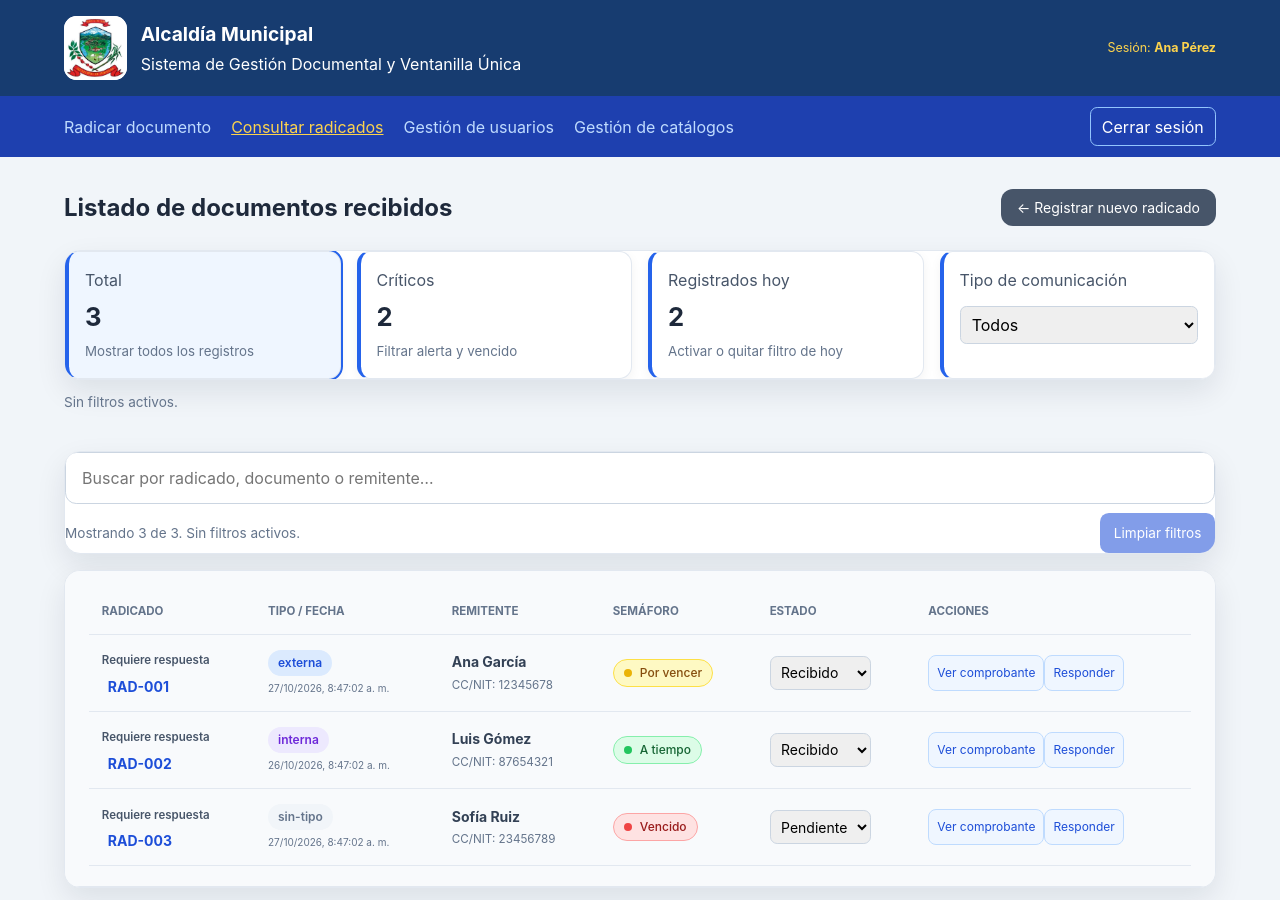
consulta de radicados React › presenta clasificación jurídica y contacto de una externa
expect the button "RAD-002" is shown: met, box [102,752,178,775]
expect the button "RAD-003" is shown: met, box [102,830,178,852]
Click the button "RAD-001": click(138, 686) [102,675,175,698]
(page scrolled)
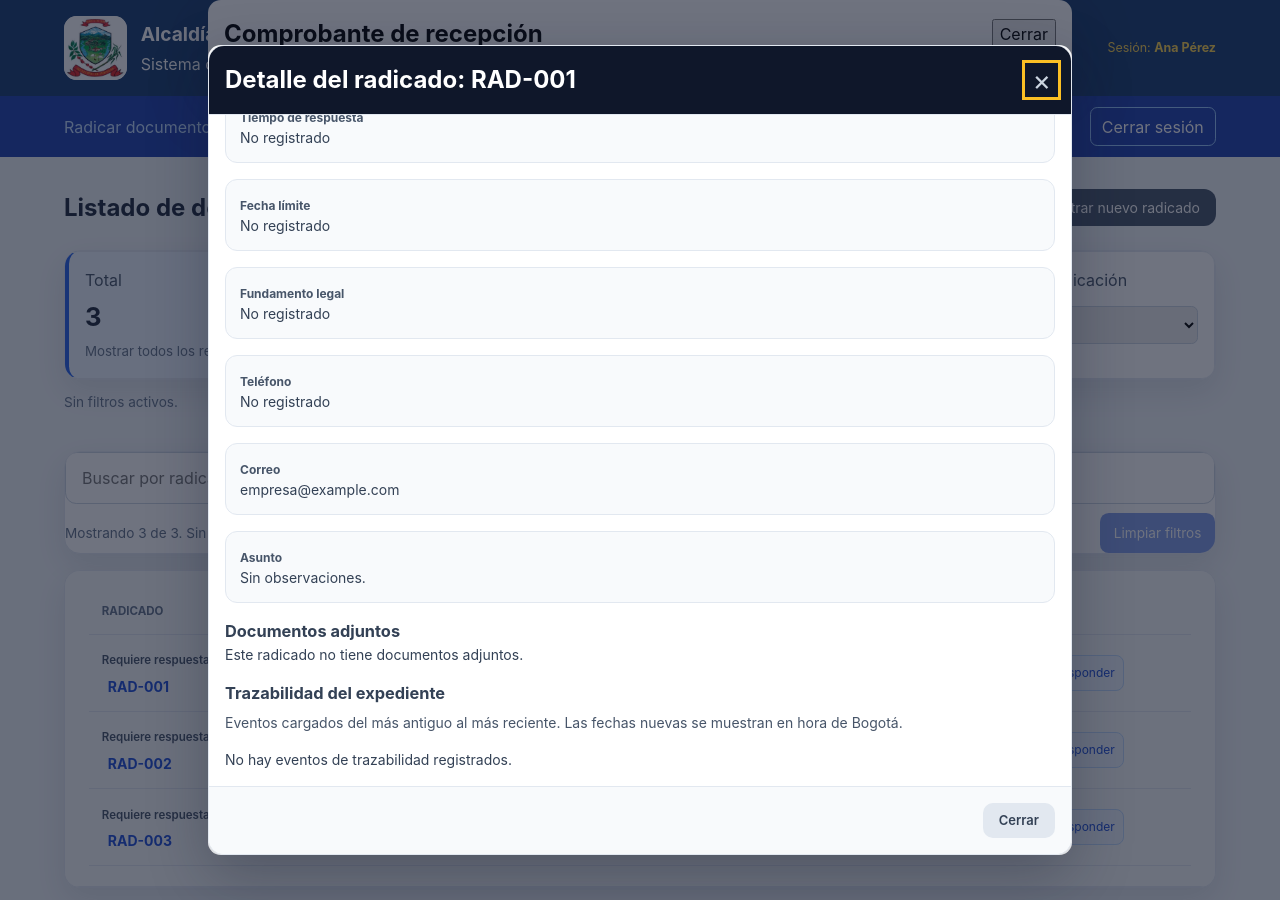
expect the text "empresa@example.com" is shown: met, box [240,481,399,498]
